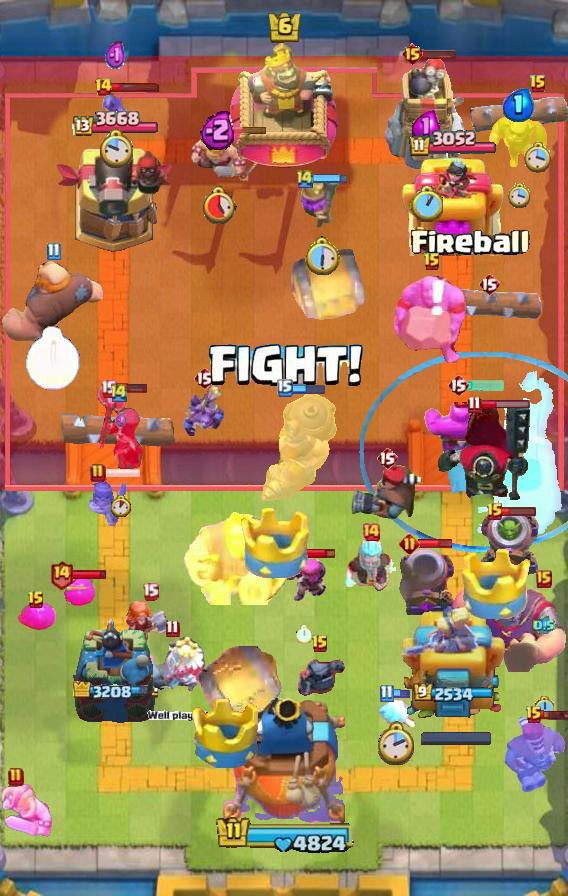bar: (480, 399, 531, 410), (110, 82, 160, 93), (214, 125, 268, 134), (301, 547, 336, 560), (291, 382, 326, 395), (104, 467, 141, 479), (421, 48, 457, 60), (71, 569, 108, 580), (501, 506, 537, 517), (114, 382, 147, 394), (313, 173, 349, 184), (418, 538, 453, 549), (541, 709, 568, 721), (392, 688, 411, 699)
bar-level: (49, 559, 74, 590), (401, 42, 424, 66), (376, 446, 398, 470), (447, 373, 469, 397), (193, 366, 215, 390), (478, 272, 500, 296), (399, 533, 420, 554), (109, 382, 129, 403), (295, 168, 315, 189), (361, 522, 381, 542), (94, 77, 113, 97), (525, 705, 543, 725), (311, 634, 329, 654), (27, 590, 45, 610), (486, 502, 504, 522), (423, 252, 441, 272), (529, 74, 547, 94), (142, 582, 159, 601), (100, 379, 117, 398), (8, 767, 24, 787), (90, 463, 106, 483), (536, 570, 552, 588), (277, 379, 293, 397), (379, 684, 394, 703), (165, 619, 180, 638), (467, 395, 482, 414), (46, 242, 61, 261)
barbarian: (190, 135, 246, 181)
bat-evolution: (100, 92, 130, 120)
cannoneer-tower: (53, 138, 175, 256)
clock: (25, 326, 81, 391), (378, 721, 416, 767), (303, 236, 340, 276), (98, 128, 133, 170), (200, 185, 237, 224), (410, 186, 443, 222), (524, 142, 552, 174), (508, 183, 531, 209), (534, 696, 554, 719), (111, 495, 131, 517), (296, 625, 312, 644)
dagger-duchess-tower: (399, 607, 507, 731)
dagger-duchess-tower-bar: (421, 731, 493, 745)
elite-barbarian: (0, 781, 54, 837)
elixir: (200, 109, 237, 150), (503, 88, 535, 122), (412, 110, 440, 143), (105, 40, 126, 72), (533, 616, 555, 635), (115, 412, 128, 428)
elixir-golem-mid: (424, 402, 492, 454)
elixir-golem-small: (16, 603, 56, 631), (63, 576, 95, 606)
firecracker: (279, 551, 329, 603)
goblin-brawler: (488, 110, 550, 170)
guard: (87, 470, 129, 528)
hunter: (502, 715, 568, 795), (348, 461, 426, 521)
ice-spirit: (378, 698, 416, 730)
ice-wizard: (342, 531, 400, 595)
king-tower: (223, 698, 345, 826), (230, 43, 338, 181)
king-tower-bar: (212, 815, 357, 856)
mini-pekka: (294, 655, 346, 699)
minion: (182, 383, 226, 439)
mortar-evolution: (393, 549, 457, 619), (477, 508, 541, 578)
musketeer: (299, 175, 343, 229)
night-witch: (95, 384, 147, 476)
queen-tower: (401, 156, 505, 256), (70, 616, 158, 731)
royal-ghost: (138, 635, 206, 703)
the-log: (54, 408, 184, 450), (436, 287, 543, 323), (470, 97, 568, 133)
tower-bar: (408, 130, 498, 158), (70, 111, 158, 139), (73, 681, 155, 703), (413, 683, 494, 704)
valkyrie: (125, 601, 175, 649)
